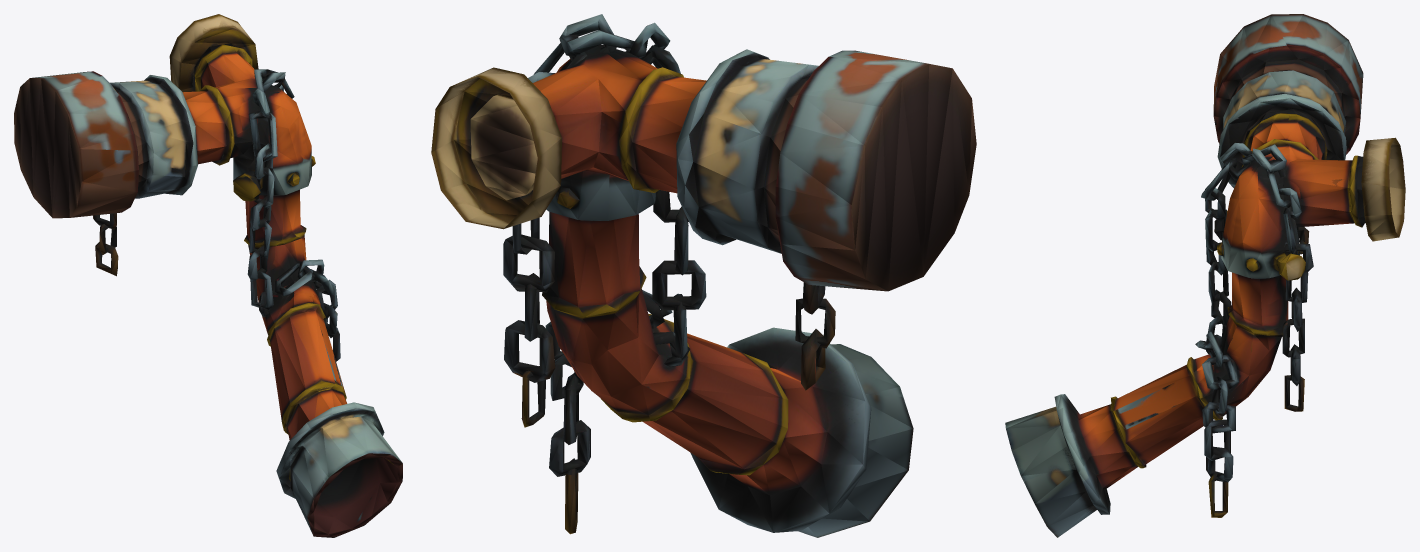
The model's file is steering_tiller.glb.
3 views of the same model, side by side, from view 1: azimuth 30°, elevation 25°; view 2: azimuth 150°, elevation 25°; view 3: azimuth 270°, elevation 25° (orthographic). The views are drawn at different scales.
Visible parts, largest first — view 1: tripo_node_d684b539-1e64-406d-a203-e8e64c5b63c8; view 2: tripo_node_d684b539-1e64-406d-a203-e8e64c5b63c8; view 3: tripo_node_d684b539-1e64-406d-a203-e8e64c5b63c8.
Part boxes in pixels (bbox=[...]): tripo_node_d684b539-1e64-406d-a203-e8e64c5b63c8: bbox=[14, 14, 402, 537]; tripo_node_d684b539-1e64-406d-a203-e8e64c5b63c8: bbox=[431, 14, 976, 537]; tripo_node_d684b539-1e64-406d-a203-e8e64c5b63c8: bbox=[1005, 14, 1405, 537].
Size of the model in its own units: 0.6619 by 0.9962 by 0.8491.
Materials: 1 (1 with a texture image).
